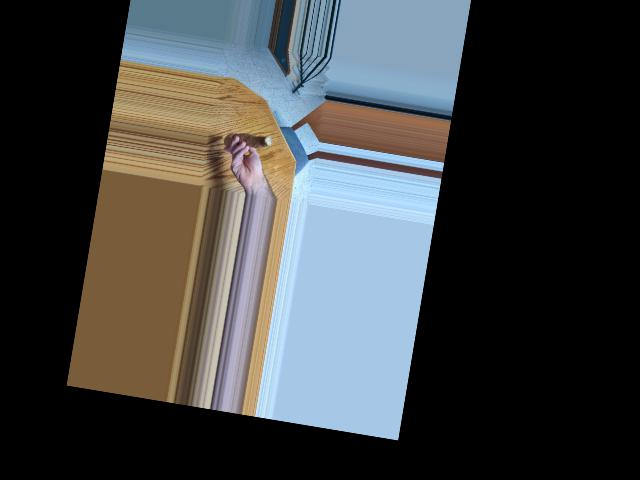sweet_potato: (223, 128, 274, 156)
